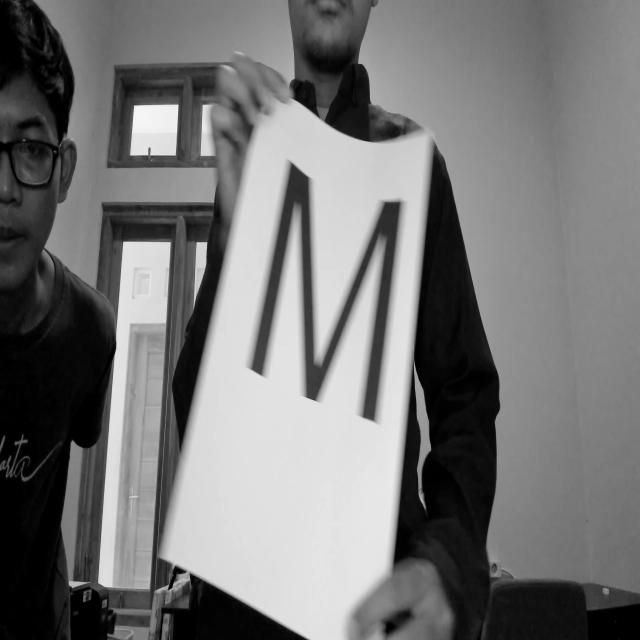m: (228, 127, 412, 464)
